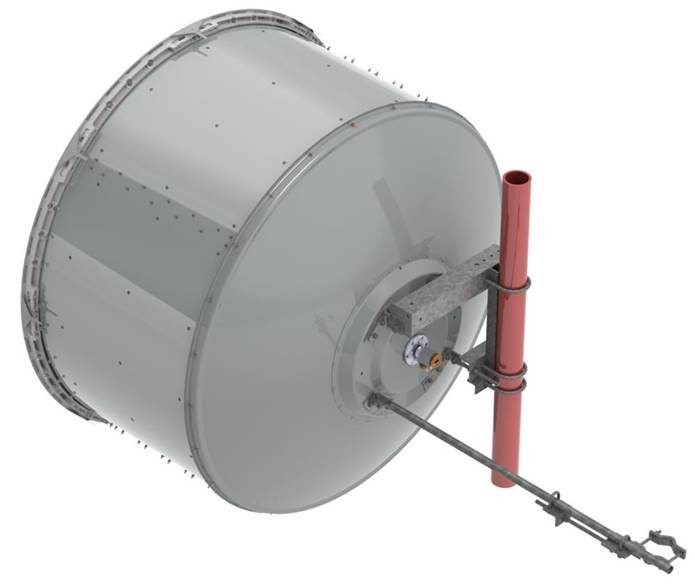ba: (10, 7, 603, 560)
